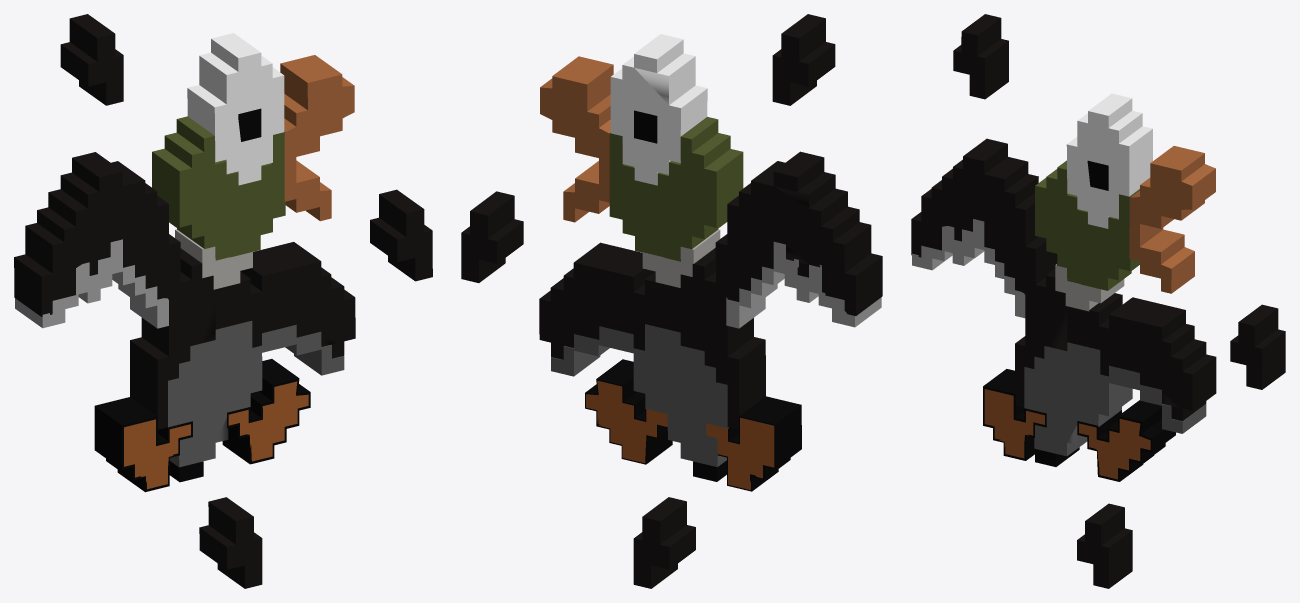
File: HuntDuck.obj
3 renders of one model, left to right at view 1: azimuth 30°, elevation 25°; view 2: azimuth 150°, elevation 25°; view 3: azimuth 330°, elevation 25°, orthographic. The views are drawn at different scales.
Parts seen in each view (by area): view 1: 012_Path, 016_Path, 020_Path, 017_Path, 021_Path, 013_Path, 024_Path_-_Stroke, 023_Path, 022_Path, 025_Path_-_Stroke, 004_Rectangle, 000_Rectangle (+11 smaller); view 2: 012_Path, 016_Path, 020_Path, 017_Path, 021_Path, 013_Path, 023_Path, 022_Path, 024_Path_-_Stroke, 025_Path_-_Stroke, 000_Rectangle, 004_Rectangle (+10 smaller); view 3: 012_Path, 020_Path, 021_Path, 017_Path, 016_Path, 013_Path, 025_Path_-_Stroke, 023_Path, 022_Path, 024_Path_-_Stroke, 004_Rectangle, 008_Rectangle (+10 smaller).
Part boxes in pixels (x1=…): 012_Path: x1=14, y1=152, x2=355, y2=429; 016_Path: x1=152, y1=116, x2=285, y2=260; 020_Path: x1=168, y1=321, x2=344, y2=467; 017_Path: x1=187, y1=33, x2=284, y2=185; 021_Path: x1=280, y1=55, x2=354, y2=221; 013_Path: x1=15, y1=239, x2=168, y2=328; 024_Path_-_Stroke: x1=94, y1=397, x2=192, y2=492; 023_Path: x1=228, y1=381, x2=308, y2=461; 022_Path: x1=124, y1=419, x2=190, y2=489; 025_Path_-_Stroke: x1=222, y1=359, x2=310, y2=464; 004_Rectangle: x1=69, y1=14, x2=115, y2=61; 000_Rectangle: x1=208, y1=497, x2=253, y2=544; 012_Path: x1=539, y1=151, x2=882, y2=429; 016_Path: x1=609, y1=117, x2=743, y2=261; 020_Path: x1=551, y1=324, x2=728, y2=466; 017_Path: x1=610, y1=34, x2=707, y2=185; 021_Path: x1=540, y1=56, x2=613, y2=222; 013_Path: x1=726, y1=241, x2=881, y2=328; 023_Path: x1=586, y1=380, x2=667, y2=463; 022_Path: x1=706, y1=417, x2=774, y2=489; 024_Path_-_Stroke: x1=717, y1=396, x2=801, y2=491; 025_Path_-_Stroke: x1=585, y1=359, x2=672, y2=464; 000_Rectangle: x1=642, y1=497, x2=686, y2=544; 004_Rectangle: x1=781, y1=14, x2=825, y2=61; 012_Path: x1=911, y1=138, x2=1216, y2=421; 020_Path: x1=1024, y1=342, x2=1206, y2=456; 021_Path: x1=1129, y1=146, x2=1215, y2=293; 017_Path: x1=1066, y1=93, x2=1152, y2=228; 016_Path: x1=1035, y1=160, x2=1139, y2=290; 013_Path: x1=912, y1=219, x2=1025, y2=318; 025_Path_-_Stroke: x1=1077, y1=400, x2=1175, y2=481; 023_Path: x1=1079, y1=418, x2=1150, y2=479; 022_Path: x1=984, y1=389, x2=1044, y2=458; 024_Path_-_Stroke: x1=983, y1=369, x2=1046, y2=460; 004_Rectangle: x1=961, y1=14, x2=1001, y2=56; 008_Rectangle: x1=1238, y1=304, x2=1278, y2=346.
Size of the model in its own units: 25.64 by 36.57 by 3.26.
